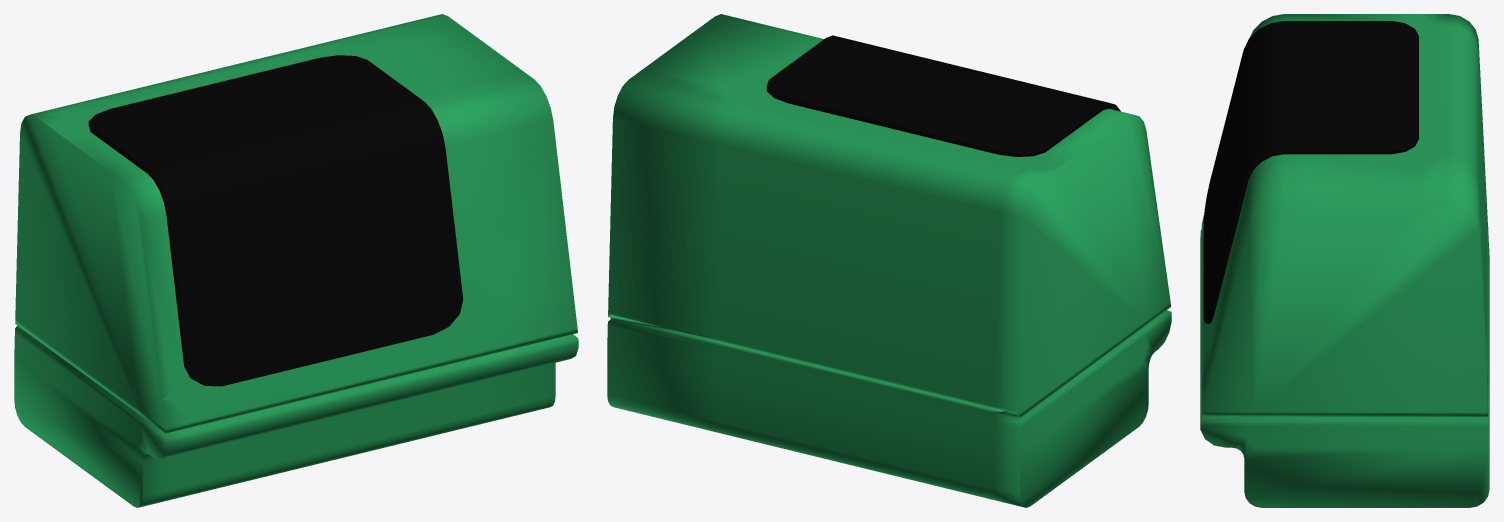
The model's file is green_console_1.glb.
3 renders of one model, left to right at view 1: azimuth 30°, elevation 25°; view 2: azimuth 150°, elevation 25°; view 3: azimuth 270°, elevation 25°, orthographic. The views are drawn at different scales.
Parts seen in each view (by area): view 1: Cube, screen, Cube.001; view 2: Cube, screen, Cube.001; view 3: Cube, screen, Cube.001.
Boxes of the visible parts, bbox=[...] form: Cube: bbox=[14, 14, 578, 507]; screen: bbox=[89, 55, 463, 385]; Cube.001: bbox=[88, 121, 445, 386]; Cube: bbox=[607, 14, 1171, 507]; screen: bbox=[767, 35, 1120, 151]; Cube.001: bbox=[766, 86, 1119, 156]; Cube: bbox=[1200, 14, 1489, 507]; screen: bbox=[1203, 21, 1418, 322]; Cube.001: bbox=[1205, 29, 1418, 323].
Size of the model in its own units: 2.71 by 2.03 by 1.73.
